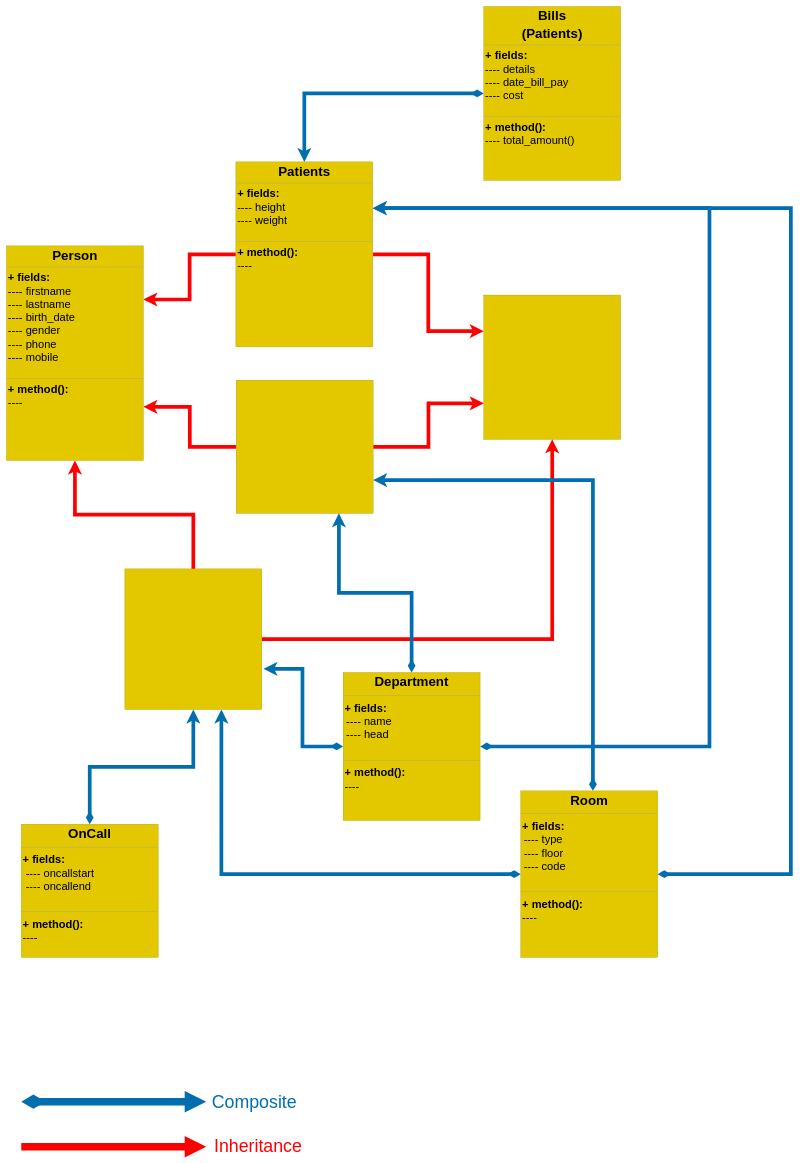
The diagram is 803 pixels wide and 1163 high, and some of its shapes have lost their labels. The shapes that lost their labels are listed below. From the top down, each one's centre as x and y in pixels, then its label:
At (x=552, y=367): "Address + fields: ---- city ---- country ---- details + method(): ----".
At (x=304, y=446): "Physician + fields: ---- position + method(): ----".
At (x=193, y=639): "Nurse + fields: ---- position + method(): ----".
